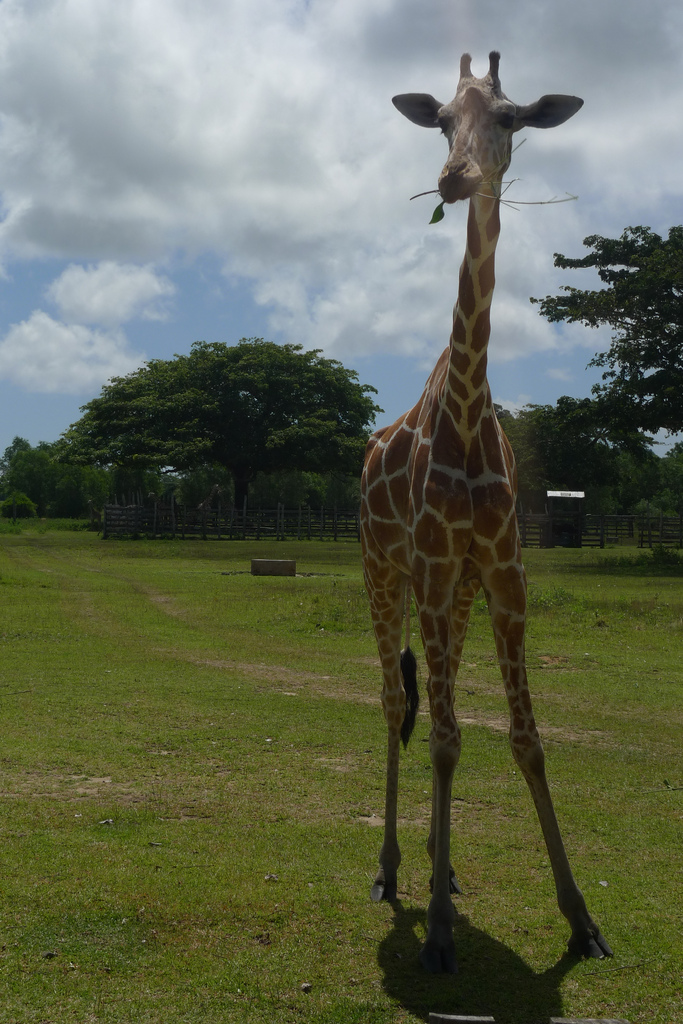giraffe: (354, 42, 632, 965)
